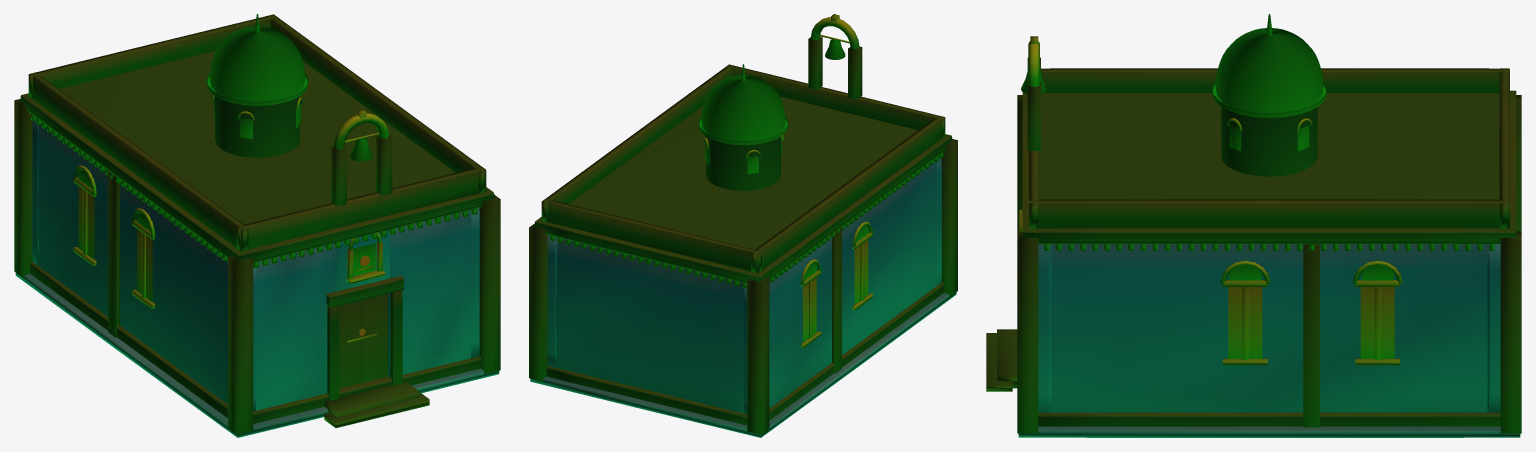
The model's file is order_chapel.glb.
The picture shows the model from 3 angles, left to right: view 1: azimuth 30°, elevation 25°; view 2: azimuth 150°, elevation 25°; view 3: azimuth 270°, elevation 25°; orthographic projection. The views are drawn at different scales.
Visible parts, largest first — view 1: order_chapel; view 2: order_chapel; view 3: order_chapel.
Part boxes in pixels (x1,y1,x2,y2): order_chapel: [14, 14, 500, 437]; order_chapel: [529, 14, 957, 437]; order_chapel: [986, 14, 1521, 437].
Size of what is drawn, in the model's own units: 6.43 by 7.26 by 10.01.
